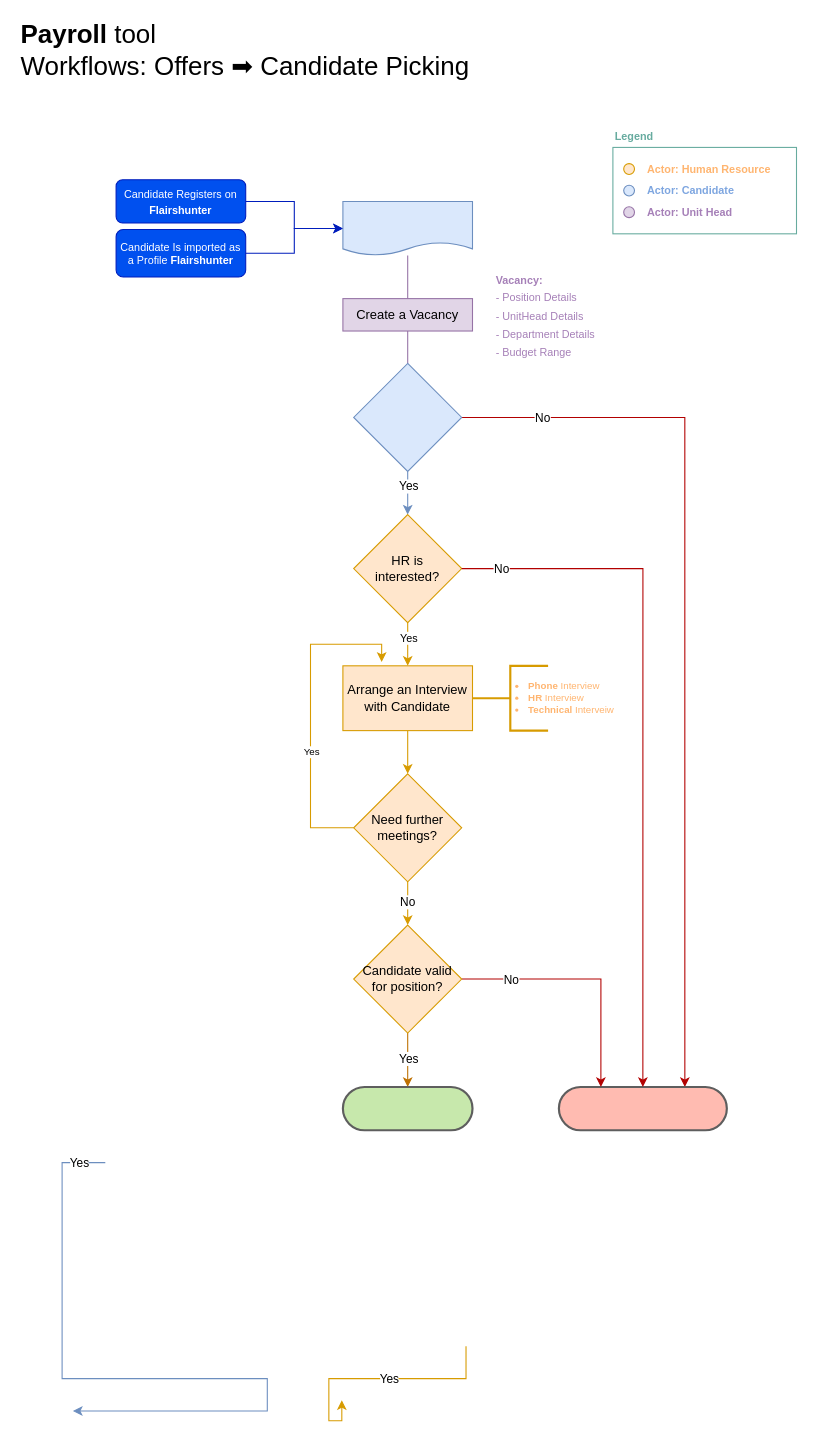
The diagram is 815 pixels wide and 1448 high, and some of its shapes have lost their labels. The centre of each missing label's shape, as x and y in pixels:
"Candidate has a Profile on Flairshunter" belongs at point (407, 227).
"Candidate is interested?" belongs at point (407, 416).
"End" belongs at point (642, 1108).
"Satisfactory End" belongs at point (407, 1108).
